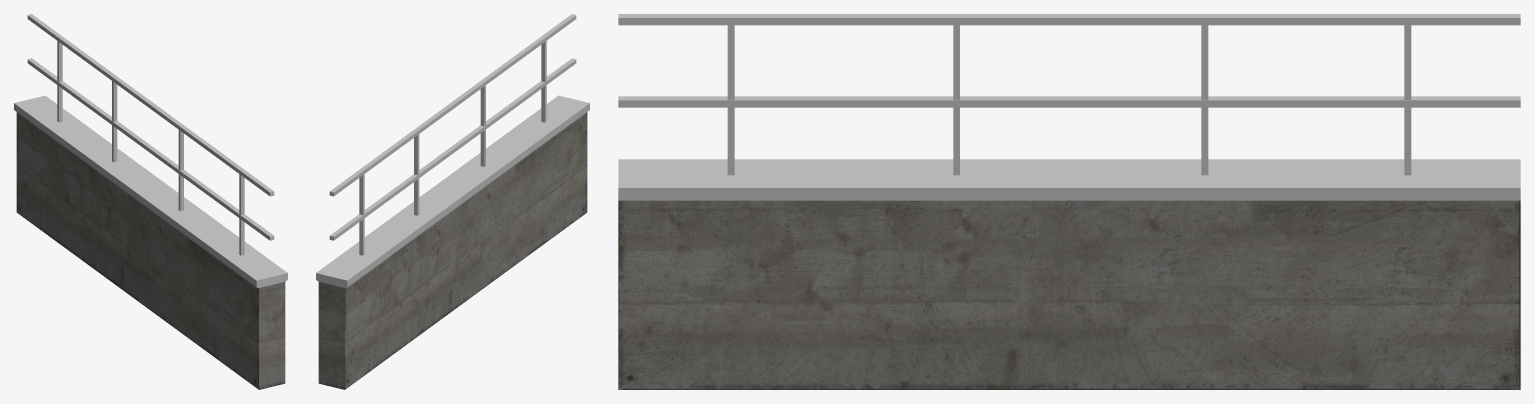
File: CP_Parapet_A_4m.fbx
3 renders of one model, left to right at view 1: azimuth 30°, elevation 25°; view 2: azimuth 150°, elevation 25°; view 3: azimuth 270°, elevation 25°, orthographic. The views are drawn at different scales.
Visible parts, largest first — view 1: CP_Parapet_A_4m; view 2: CP_Parapet_A_4m; view 3: CP_Parapet_A_4m.
Part boxes in pixels (x1,y1,x2,y2): CP_Parapet_A_4m: (14,14,287,389); CP_Parapet_A_4m: (316,14,589,389); CP_Parapet_A_4m: (618,14,1520,389).
Size of the model in its own units: 29.88 by 177 by 400.
